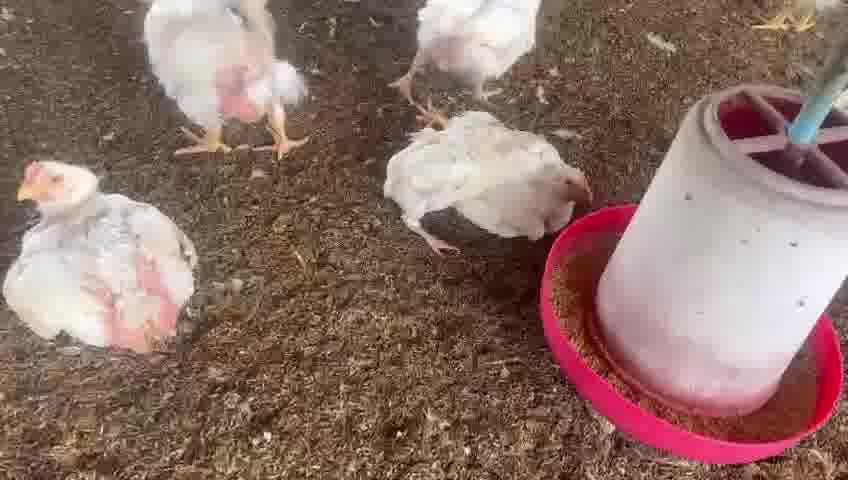AbNormal: (8, 158, 197, 351), (387, 106, 592, 243)
Normal: (138, 3, 305, 156), (392, 0, 528, 99)
